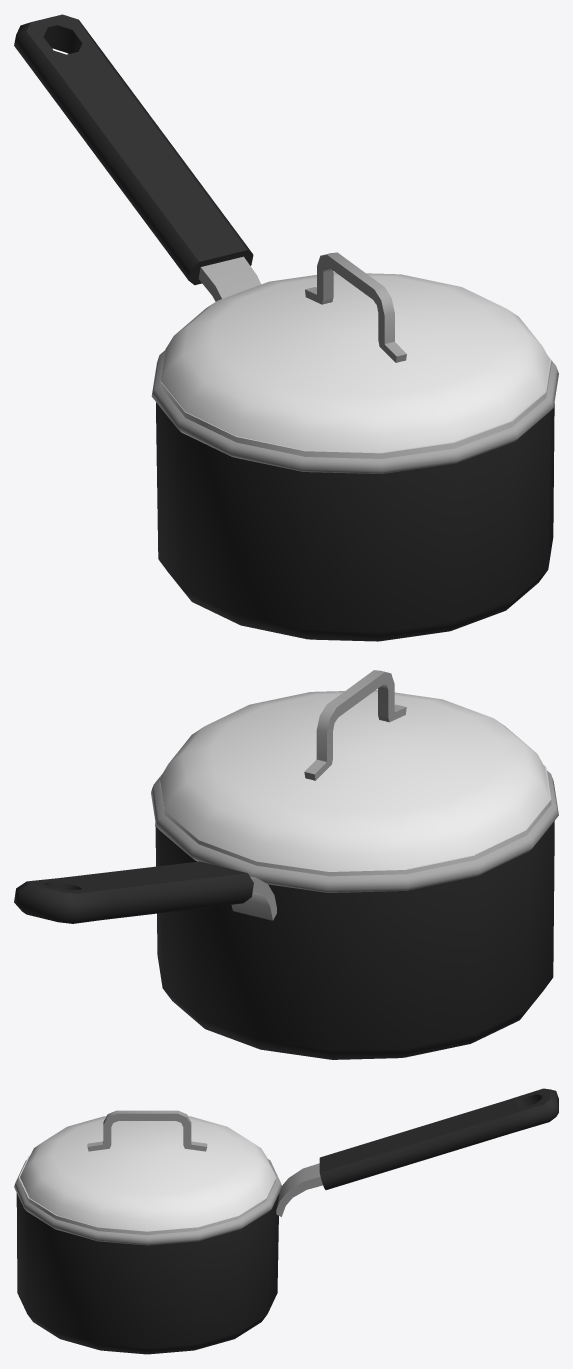
Rendered from SaucePan_01.fbx.
3 views of the same model, one above another, from view 1: azimuth 30°, elevation 25°; view 2: azimuth 150°, elevation 25°; view 3: azimuth 270°, elevation 25° (orthographic). The views are drawn at different scales.
Parts seen in each view (by area): view 1: SaucePan_01, SaucePan_01_Lid; view 2: SaucePan_01, SaucePan_01_Lid; view 3: SaucePan_01, SaucePan_01_Lid.
Boxes of the visible parts, x1,y1,x2,y2 form: SaucePan_01: (14,14,558,641); SaucePan_01_Lid: (160,252,551,458); SaucePan_01: (14,770,558,1059); SaucePan_01_Lid: (159,670,551,876); SaucePan_01: (14,1088,558,1354); SaucePan_01_Lid: (18,1110,276,1235).
Size of the model in its own units: 0.2614 by 0.2295 by 0.531.
